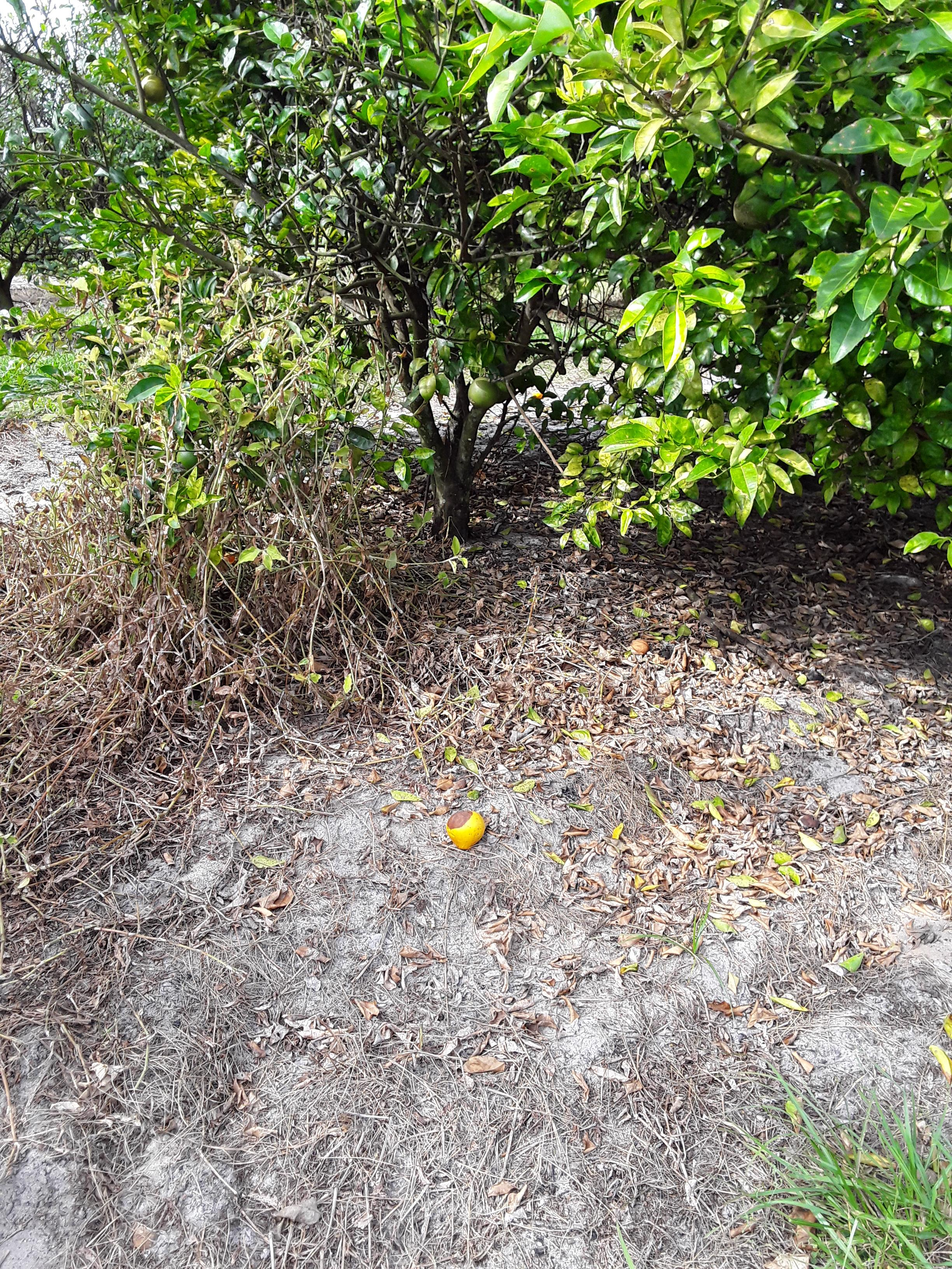fruit_on_ground: (465, 376, 503, 413), (137, 71, 169, 103), (171, 444, 200, 473)
fruit_on_tree: (443, 807, 488, 851), (628, 637, 650, 658), (796, 813, 820, 832)
